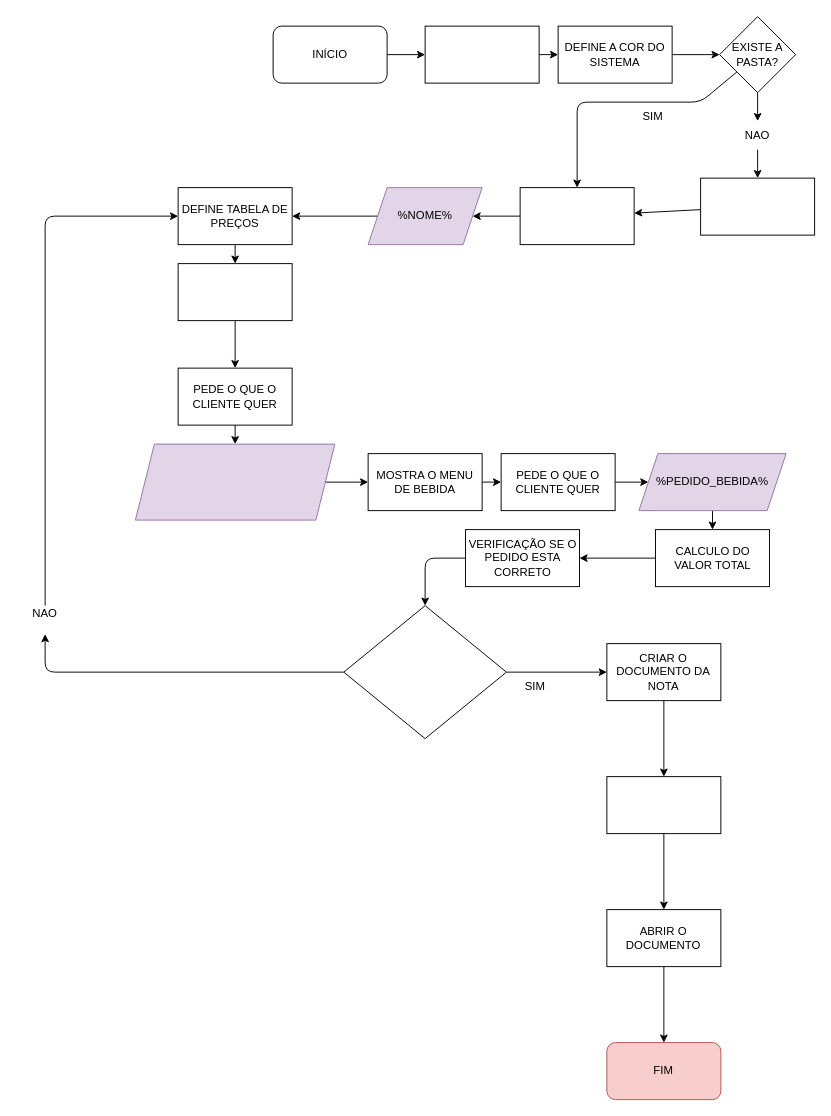
This 831x1116 diagram has some shape labels left out. Each missing label, with the box of its shape:
%PEDIDO_HAMBURGUER%: (134, 443, 335, 520)
COLOCAR AS INFORMAÇÕES DA NOTA NO DOCUMENTO TXT: (606, 776, 721, 834)
CRIAR A PASTA: (700, 177, 815, 235)
EXIBE BURGUER TECH: (424, 25, 539, 83)
MOSTRA O MENU DE HAMBURGUER'S: (177, 263, 292, 321)
O PEDIDO ESTÁ CERTO: (343, 605, 506, 739)
PEDIR NOME DO CLIENTE: (519, 187, 634, 245)
